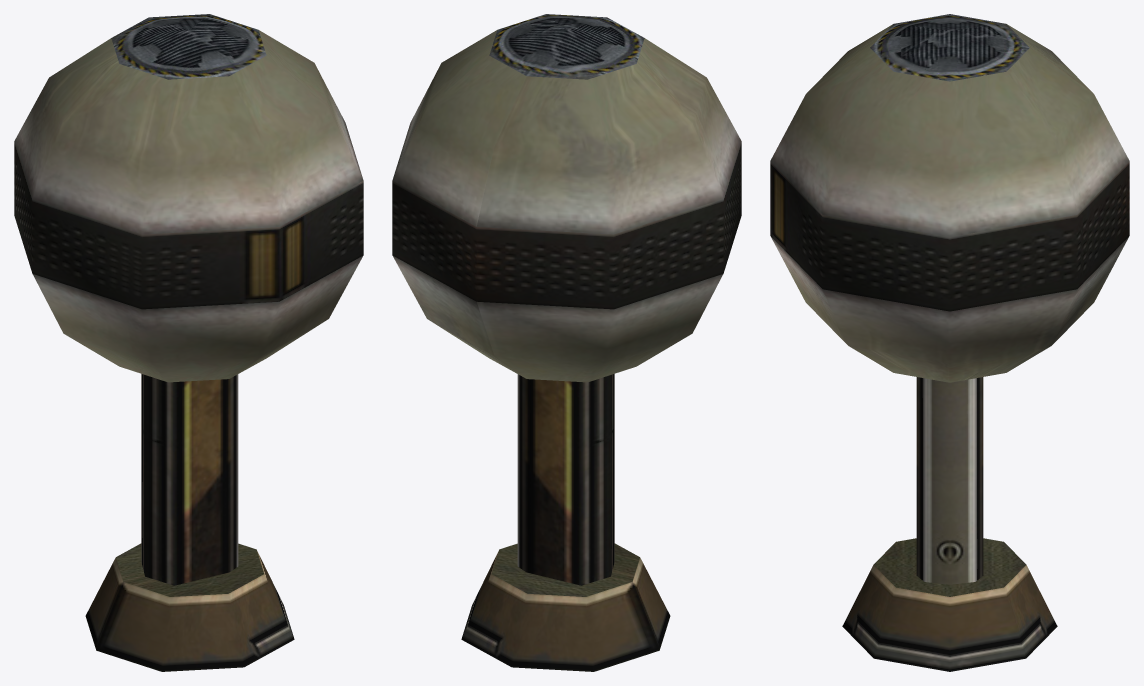
Rendered from network.obj.
3 views of the same model, side by side, from view 1: azimuth 30°, elevation 25°; view 2: azimuth 150°, elevation 25°; view 3: azimuth 270°, elevation 25° (orthographic).
Visible parts, largest first — view 1: pSphere12 group41, group41 pCylinder34, group41 pCylinder33; view 2: pSphere12 group41, group41 pCylinder34, group41 pCylinder33; view 3: pSphere12 group41, group41 pCylinder33, group41 pCylinder34.
Boxes of the visible parts, <box> form: pSphere12 group41: <box>14,14,363,382</box>; group41 pCylinder34: <box>141,374,238,585</box>; group41 pCylinder33: <box>85,543,294,671</box>; pSphere12 group41: <box>392,14,741,382</box>; group41 pCylinder34: <box>517,374,614,585</box>; group41 pCylinder33: <box>461,543,670,671</box>; pSphere12 group41: <box>770,14,1129,382</box>; group41 pCylinder33: <box>842,538,1057,671</box>; group41 pCylinder34: <box>916,377,983,584</box>.
Size of the model in its own units: 4.88 by 8.9 by 4.88.
Materials: 3 (3 with a texture image).
